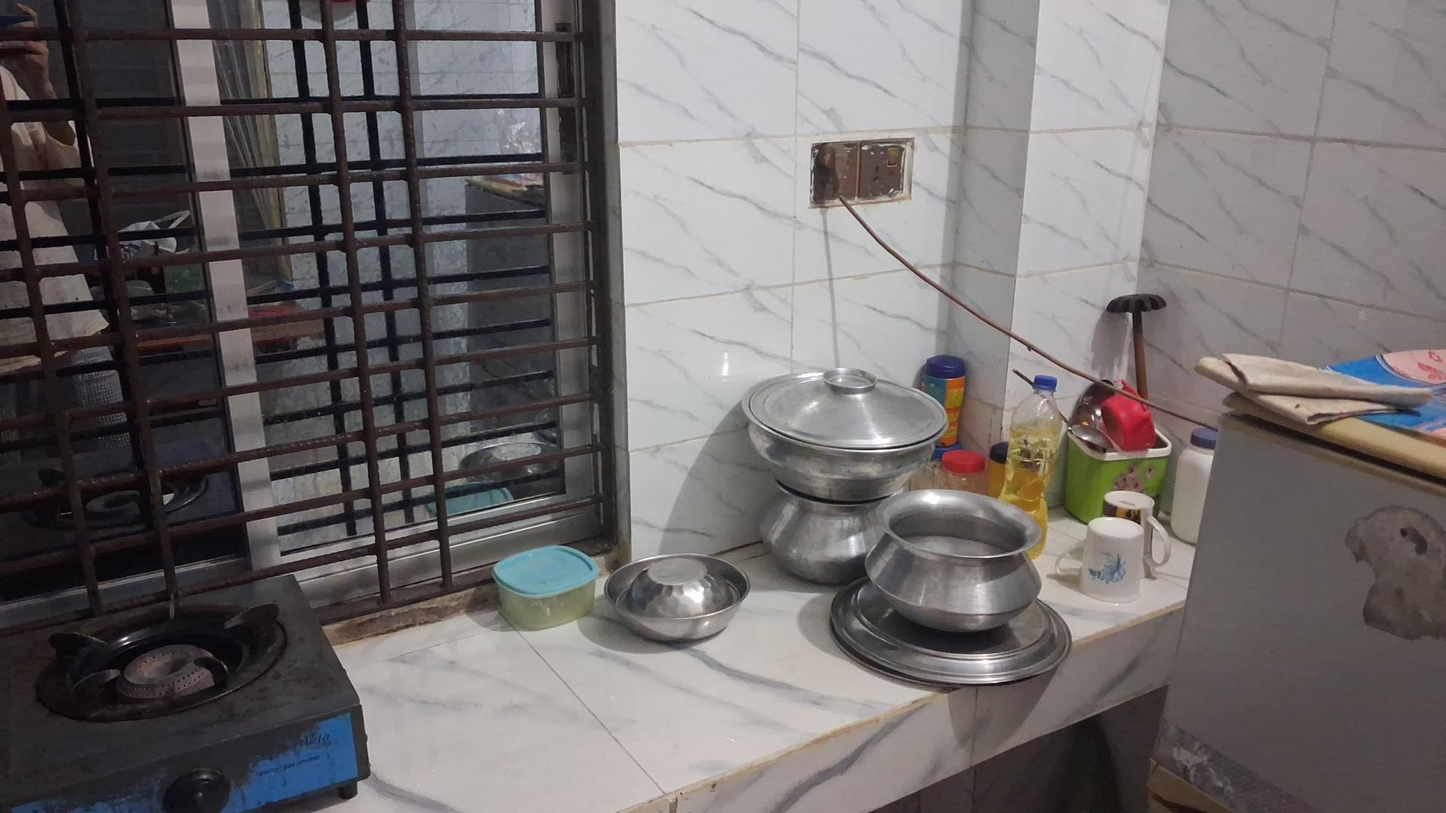Bottle: (998, 374, 1067, 506)
Bowl: (600, 552, 750, 644)
Cup: (1076, 515, 1155, 606)
Jar: (492, 544, 599, 629)
Pot: (735, 362, 947, 499), (868, 489, 1043, 632), (762, 485, 888, 585)
Window: (0, 0, 615, 591)
